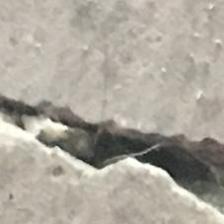Crack: (0, 74, 224, 224)
